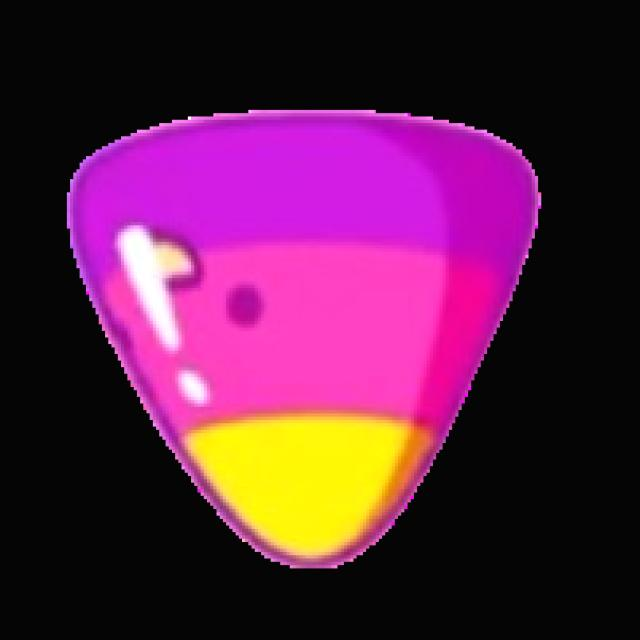jian: (61, 105, 542, 570)
